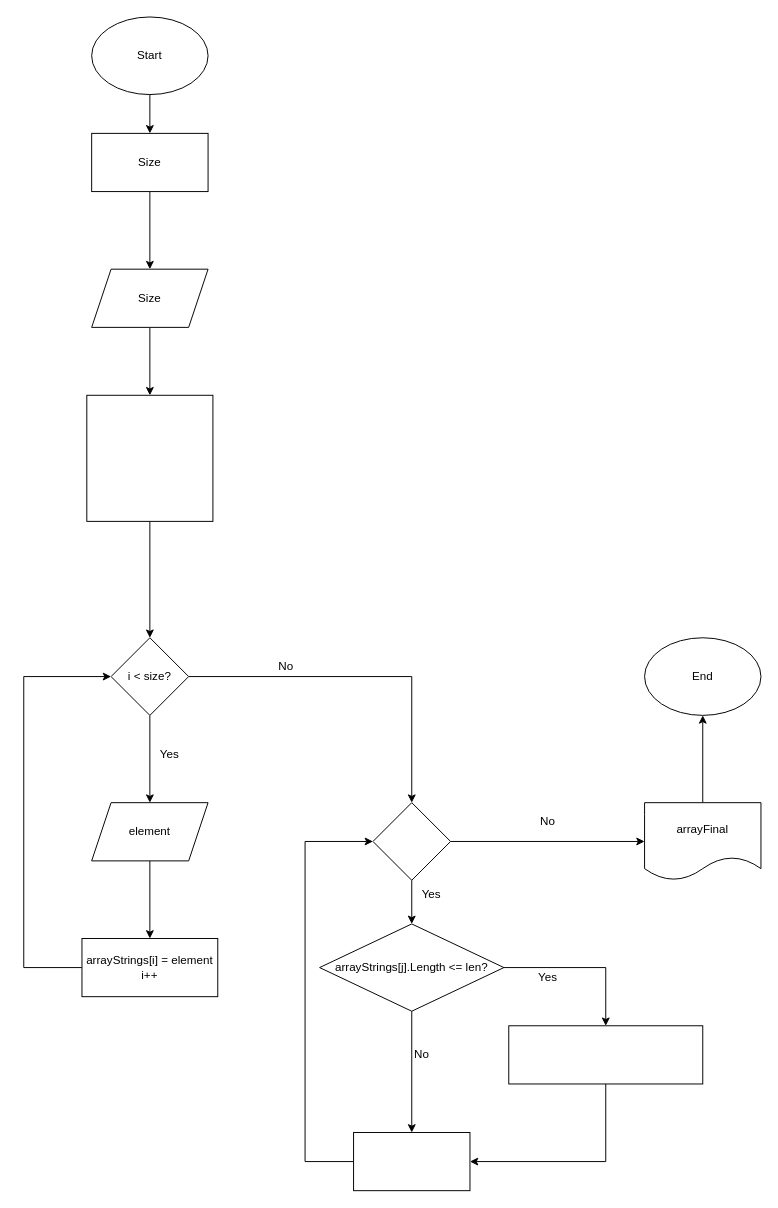
The diagram is 778 pixels wide and 1208 high, and some of its shapes have lost their labels. Here are the shapes that lost their labels. From the top down, the centre of each, then its label:
(x=149, y=457): arrayStrings[size] arrayFinal[size] element i = 0 j = 0 len = 3 pos = 0
(x=411, y=841): j < size?
(x=605, y=1054): arrayFinal[pos] = arrayStrings[j] pos++
(x=411, y=1161): j++
